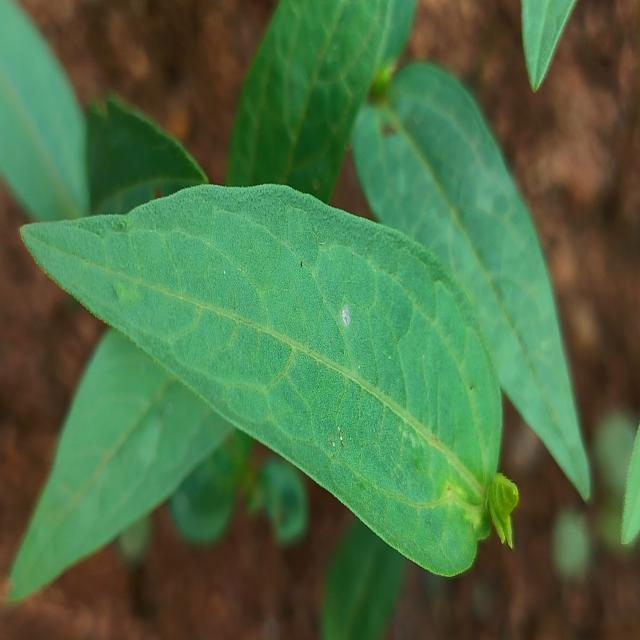Black gram_healthy: (20, 186, 502, 579), (345, 53, 593, 492), (13, 314, 239, 603), (224, 0, 414, 210)
